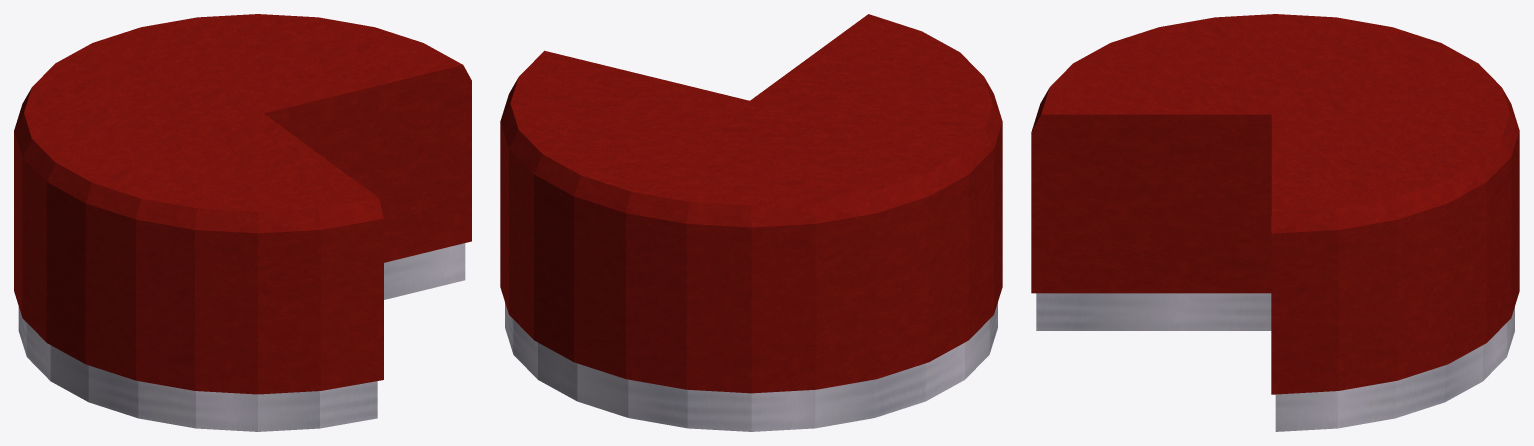
File: Table2.fbx
3 renders of one model, left to right at view 1: azimuth 30°, elevation 25°; view 2: azimuth 150°, elevation 25°; view 3: azimuth 270°, elevation 25°, orthographic. The views are drawn at different scales.
Parts seen in each view (by area): view 1: Empty_Mesh; view 2: Empty_Mesh; view 3: Empty_Mesh.
Boxes of the visible parts, <box> form: Empty_Mesh: <box>14,14,471,431</box>; Empty_Mesh: <box>500,14,1002,431</box>; Empty_Mesh: <box>1031,14,1519,431</box>.
Bounding box in the file's own units: 115 × 56.68 × 115.
